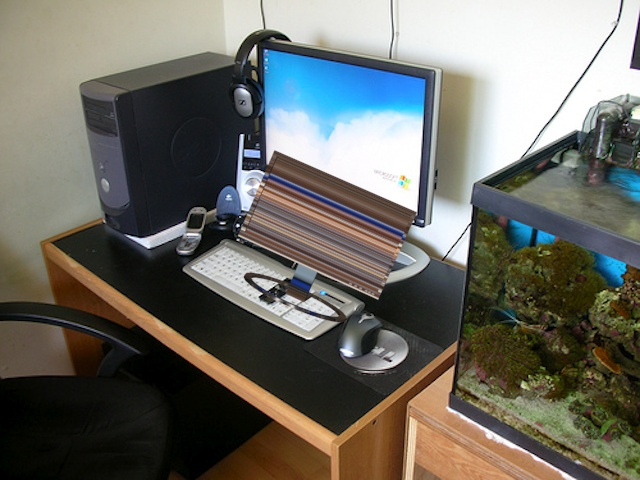monitor: (225, 145, 424, 336)
